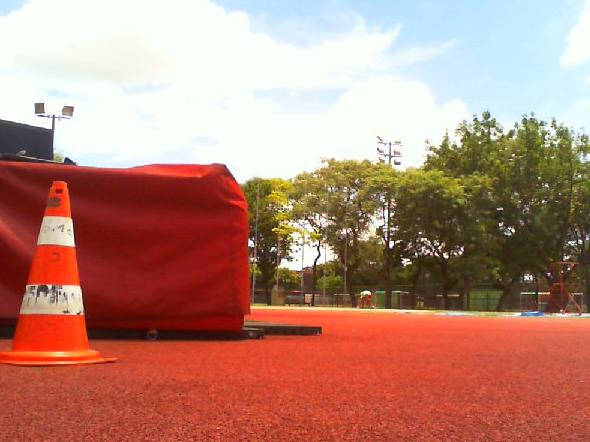0 cone: (0, 181, 118, 366)
